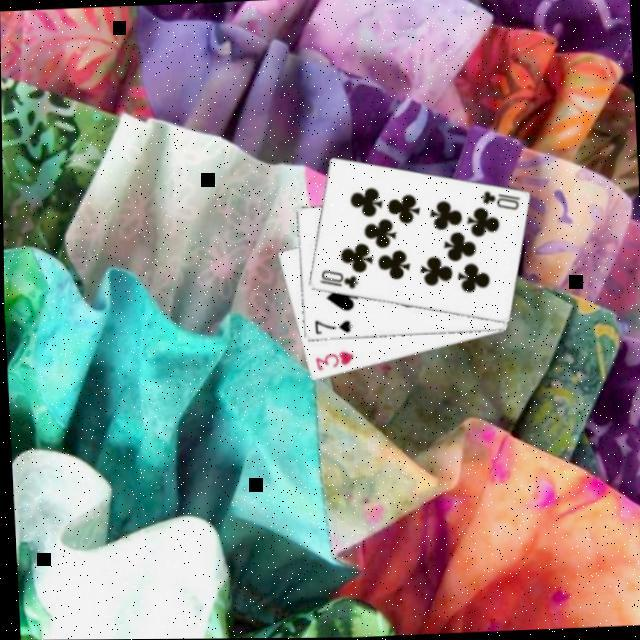10C: (478, 188, 524, 216), (316, 268, 361, 295)
3H: (312, 349, 358, 375)
7S: (311, 318, 355, 339)
